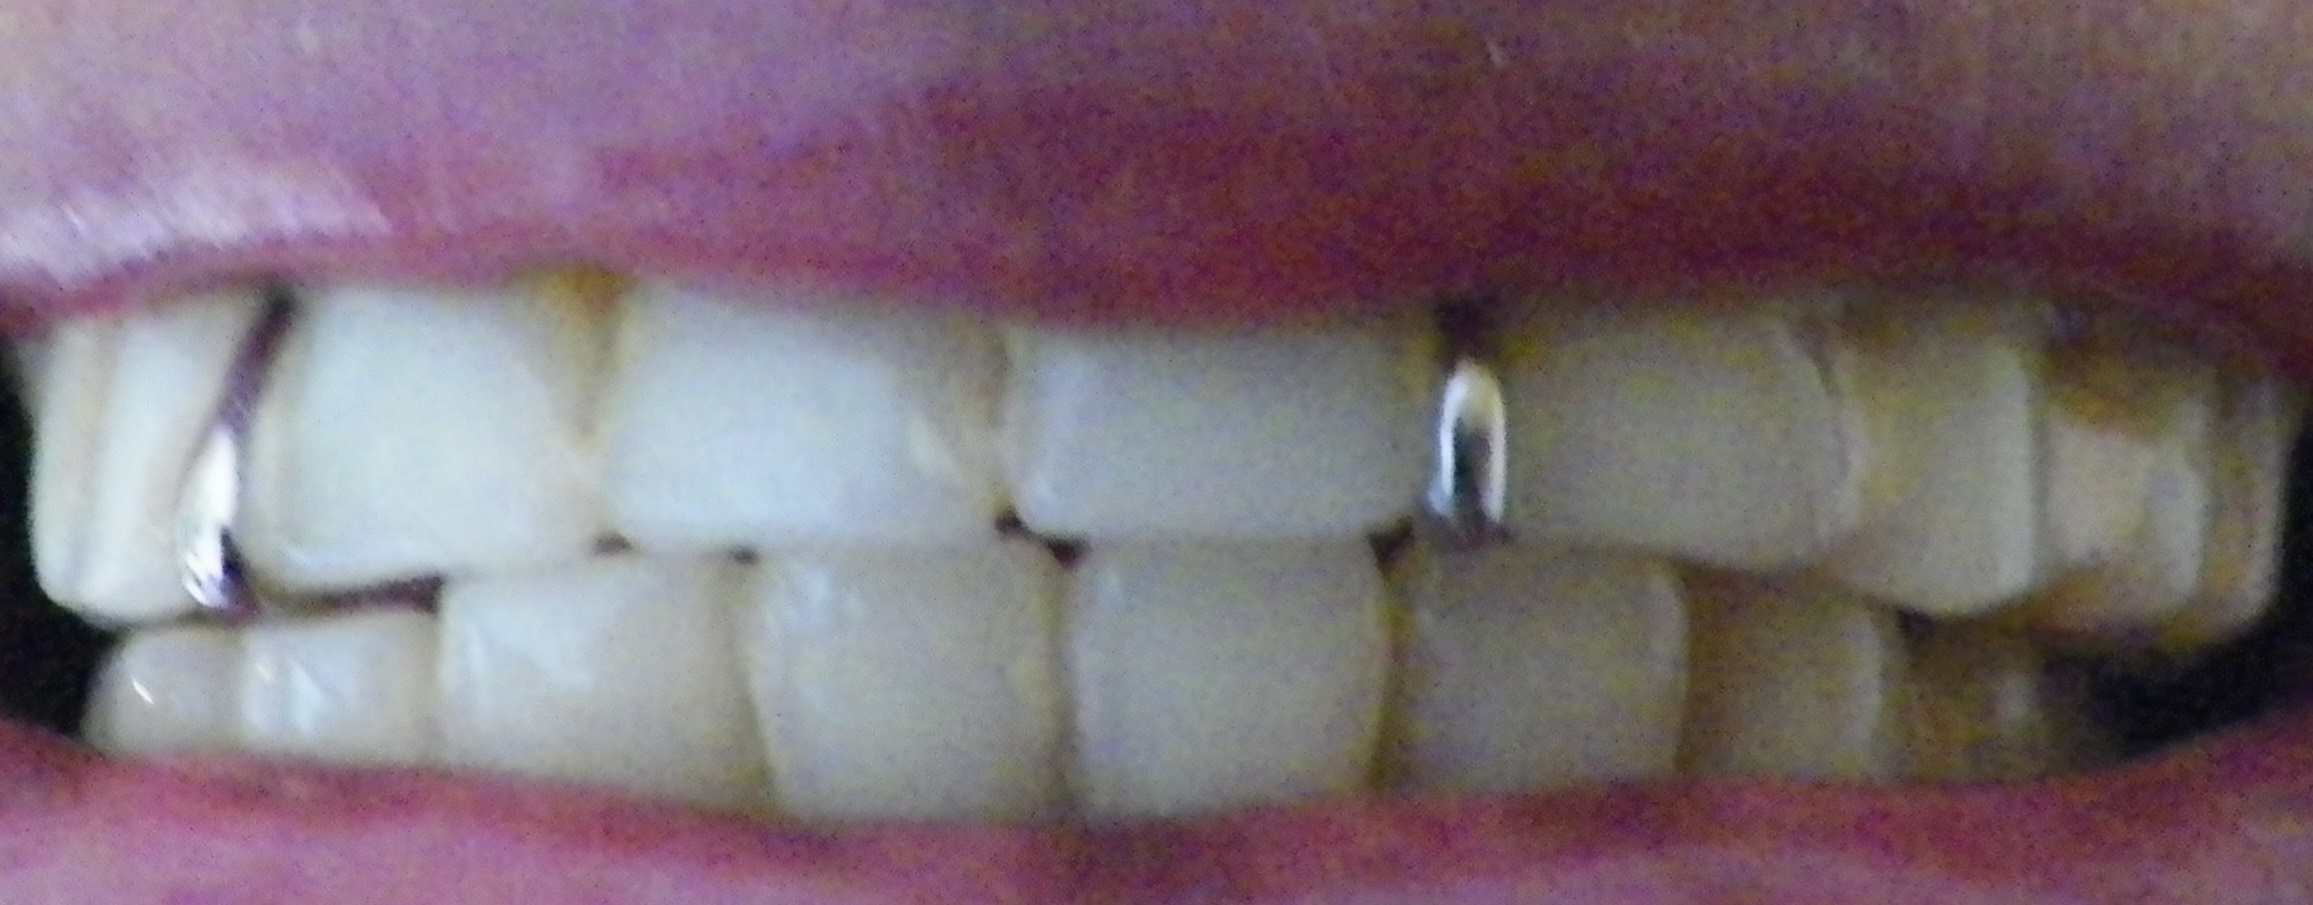boca: (16, 255, 2261, 811)
